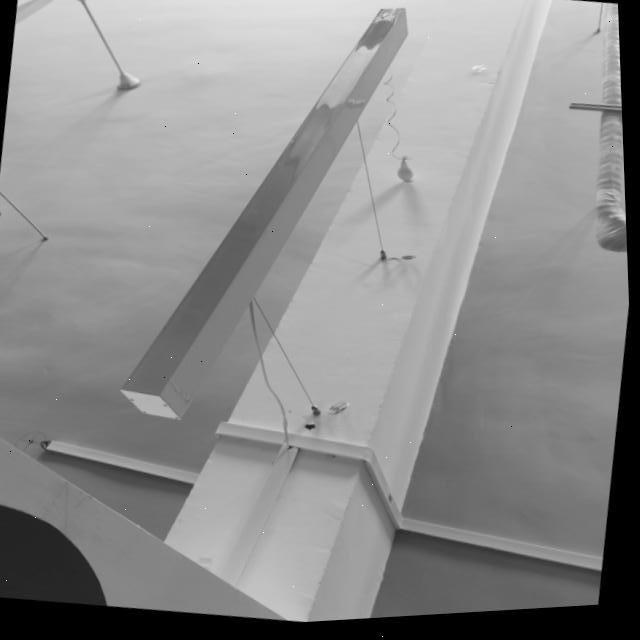fluorescent tube: (99, 0, 437, 457)
